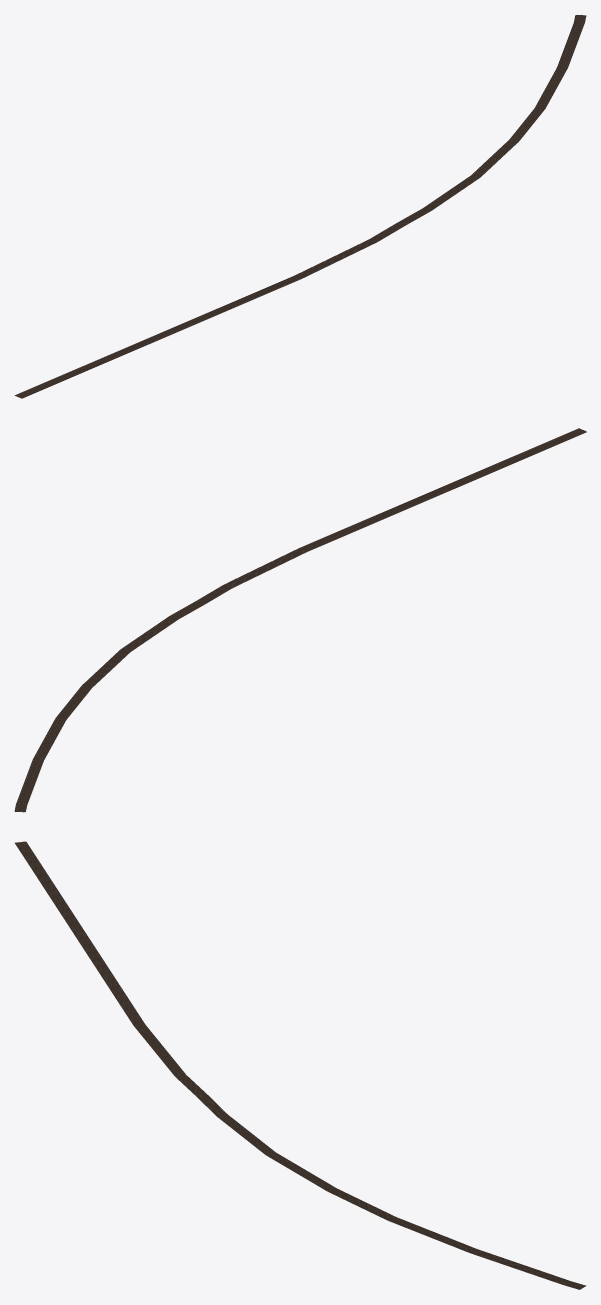
Rendered from kobe_0040.glb.
The picture shows the model from 3 angles, top to bottom: view 1: azimuth 30°, elevation 25°; view 2: azimuth 210°, elevation 25°; view 3: azimuth 270°, elevation 25°; orthographic projection. The views are drawn at different scales.
Visible parts, largest first — view 1: ballast_top, oxidised_rail_profiles; view 2: ballast_top, oxidised_rail_profiles, ballast_left; view 3: ballast_top, oxidised_rail_profiles.
Boxes of the visible parts, <box> form: ballast_top: <box>14,15,586,398</box>; oxidised_rail_profiles: <box>15,15,584,397</box>; ballast_top: <box>14,428,586,811</box>; oxidised_rail_profiles: <box>16,428,585,811</box>; ballast_left: <box>25,431,586,811</box>; ballast_top: <box>15,841,586,1289</box>; oxidised_rail_profiles: <box>16,842,585,1288</box>.
Size of the model in its own units: 652 by 0.819 by 352.
4 materials, 3 textured.
